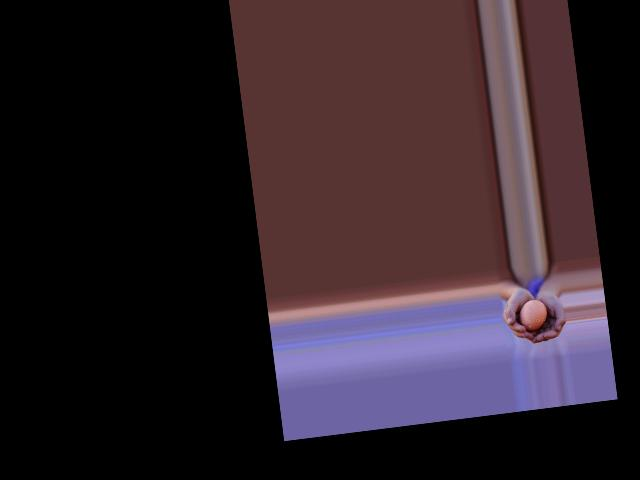egg: (517, 298, 549, 332)
